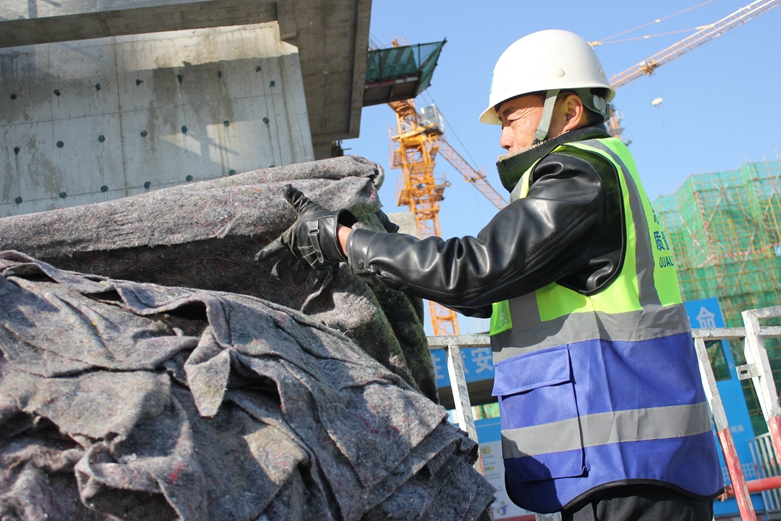safetyhat: (426, 24, 715, 504)
